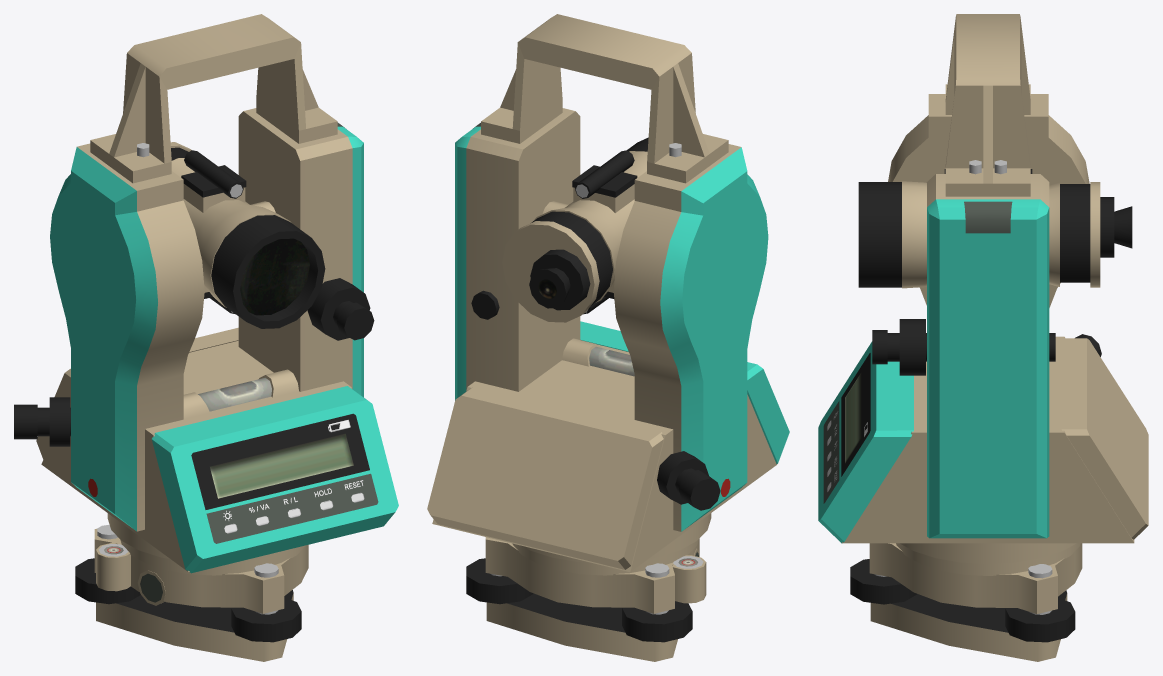
File: Nikon_Theo.FBX
3 views of the same model, side by side, from view 1: azimuth 30°, elevation 25°; view 2: azimuth 150°, elevation 25°; view 3: azimuth 270°, elevation 25° (orthographic).
Parts seen in each view (by area): view 1: upper_body, tribrach, telescope; view 2: upper_body, tribrach, telescope; view 3: upper_body, tribrach, telescope.
Boxes of the visible parts, box(x1,y1,x2,y2) form: upper_body: box(14, 14, 398, 575); tribrach: box(75, 525, 308, 661); telescope: box(170, 142, 325, 328); upper_body: box(427, 14, 789, 575); tribrach: box(466, 537, 706, 661); telescope: box(502, 137, 648, 322); upper_body: box(818, 14, 1148, 575); tribrach: box(850, 543, 1082, 661); telescope: box(858, 169, 1132, 288).
Size of the model in its own units: 17.41 by 17.64 by 33.72.
1 material, 1 textured.
